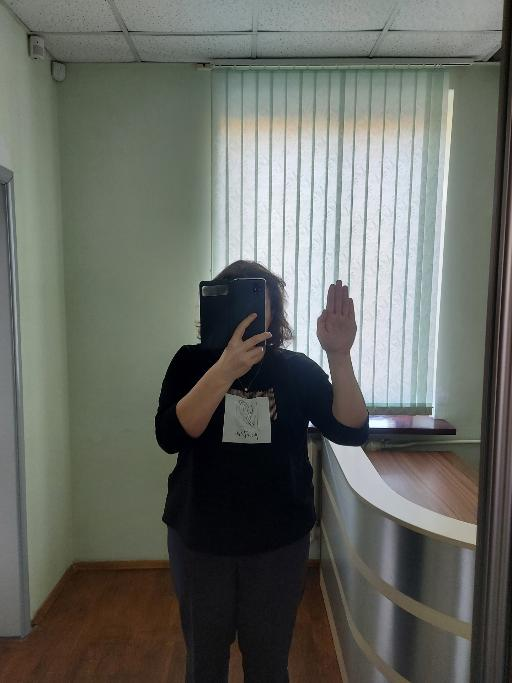no_gesture: (219, 310, 274, 379)
stop: (313, 277, 359, 355)
